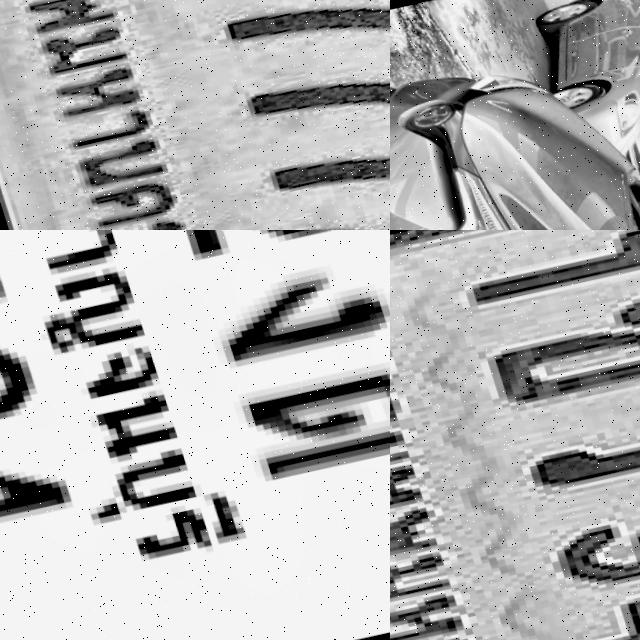license-plate: (0, 230, 390, 640), (390, 230, 640, 640), (0, 0, 390, 230)
